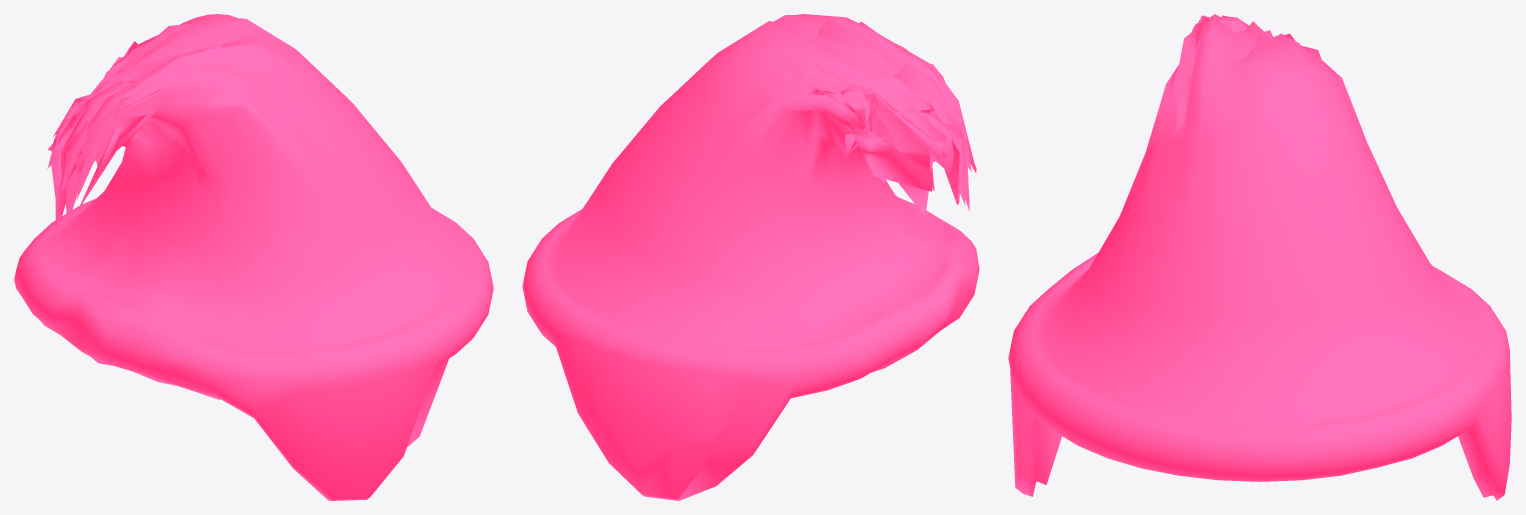
File: phrygianCap.glb
3 views of the same model, side by side, from view 1: azimuth 30°, elevation 25°; view 2: azimuth 150°, elevation 25°; view 3: azimuth 270°, elevation 25° (orthographic). The views are drawn at different scales.
Visible parts, largest first — view 1: Santa_Hat; view 2: Santa_Hat; view 3: Santa_Hat.
Boxes of the visible parts, x1,y1,x2,y2 form: Santa_Hat: [14, 14, 493, 500]; Santa_Hat: [522, 14, 979, 500]; Santa_Hat: [1008, 14, 1511, 500].
Size of the model in its own units: 4.88 by 4.58 by 4.83.
